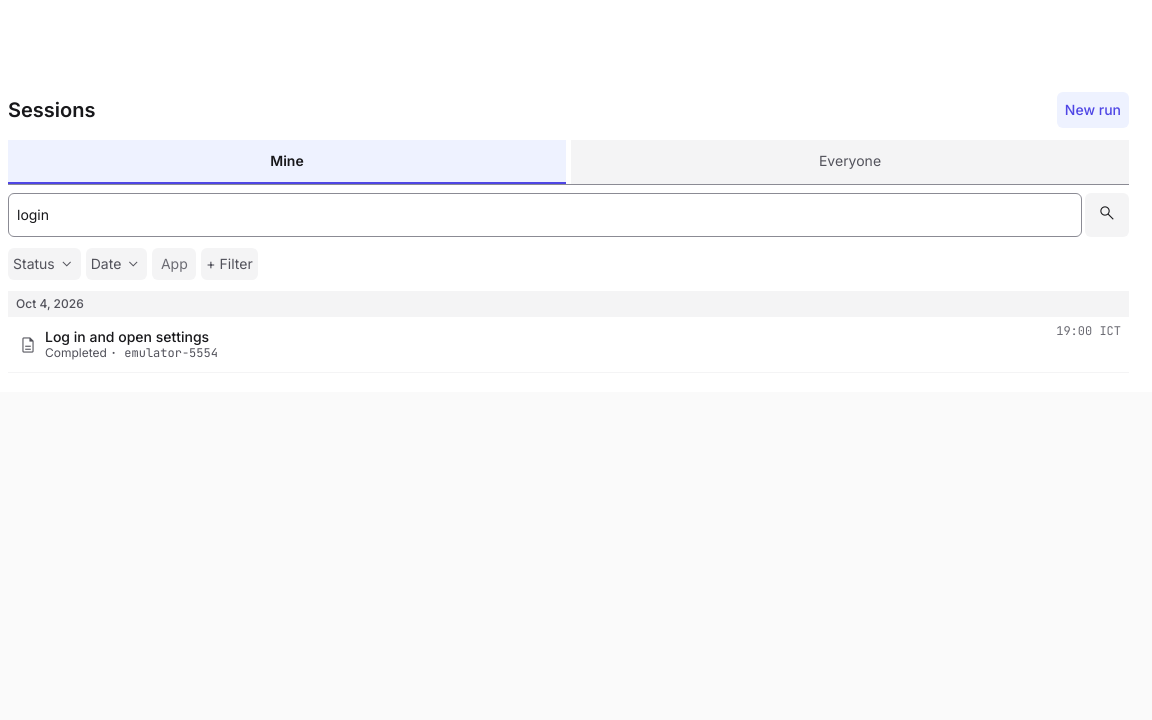
RunLibraryComponent › filter popovers › adds optional filters, applies text values, and restores them from the URL
The width and height of the screenshot is (1152, 720).
Click the button "+ Filter".
click(229, 264)  # box [201,242,258,286]
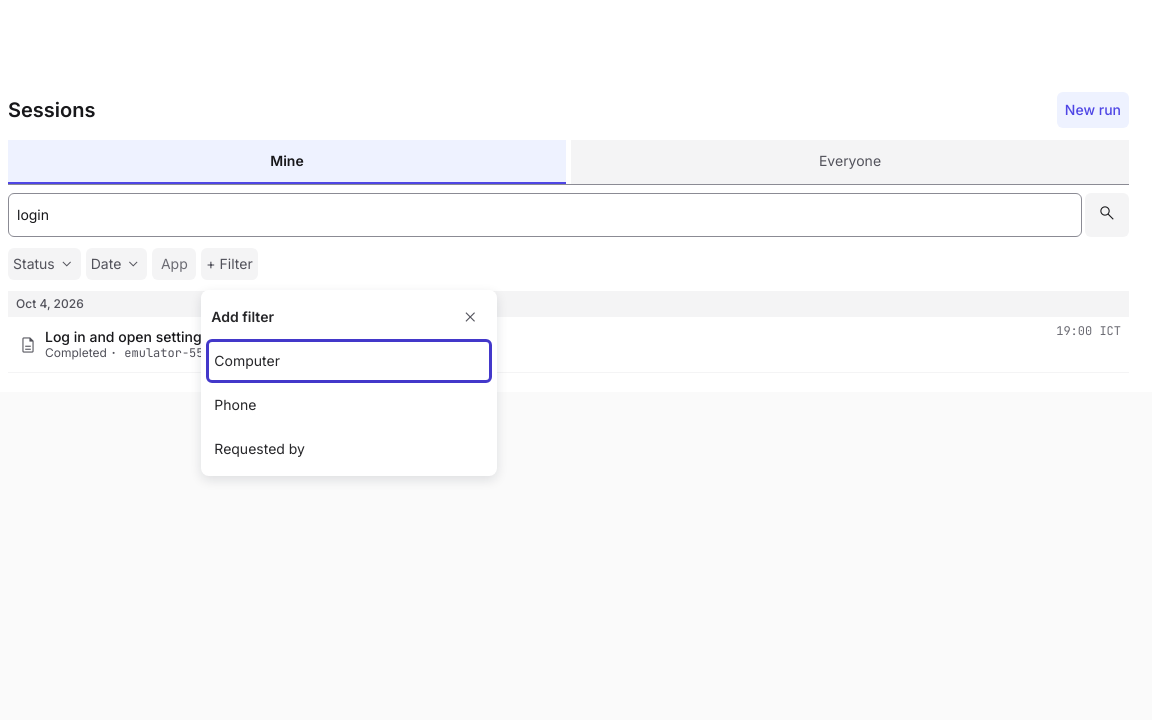
Click the button "Phone".
click(235, 404)  # box [206,383,492,427]
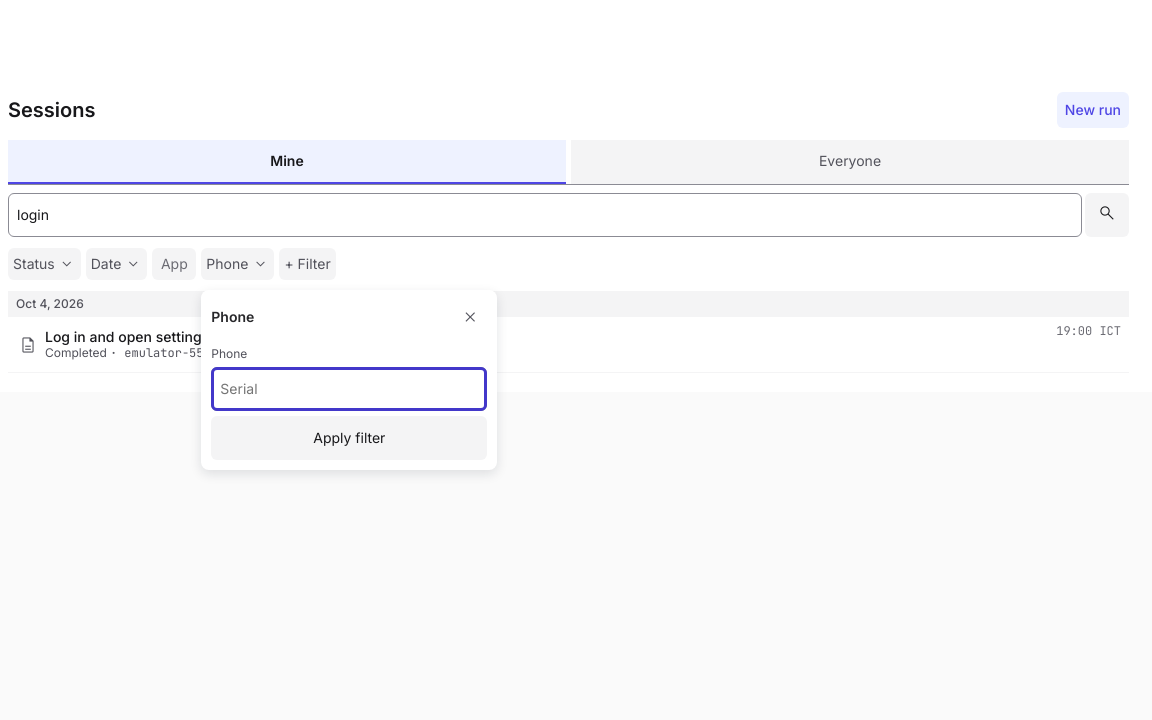
Type "  emulator-5554  " into the field named "Phone".
click(349, 389); type("  emulator-5554  ")  # box [211,367,487,411]
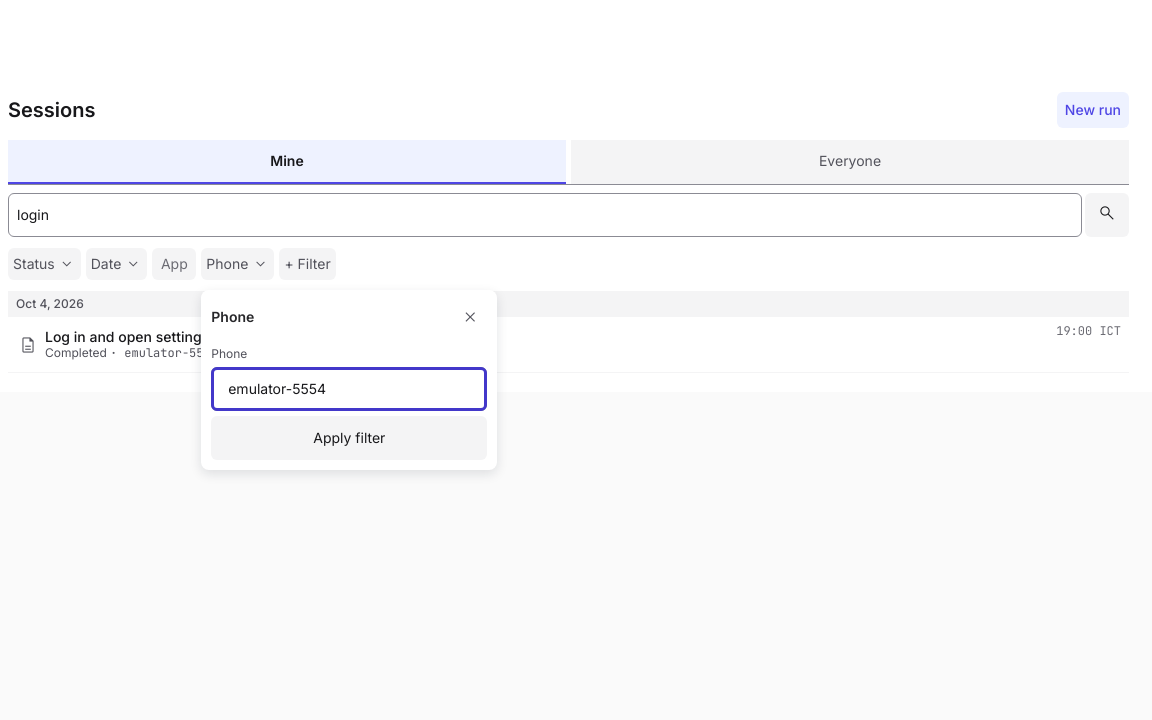
Submit the form "Phone Apply filter", box [206,339,492,465]
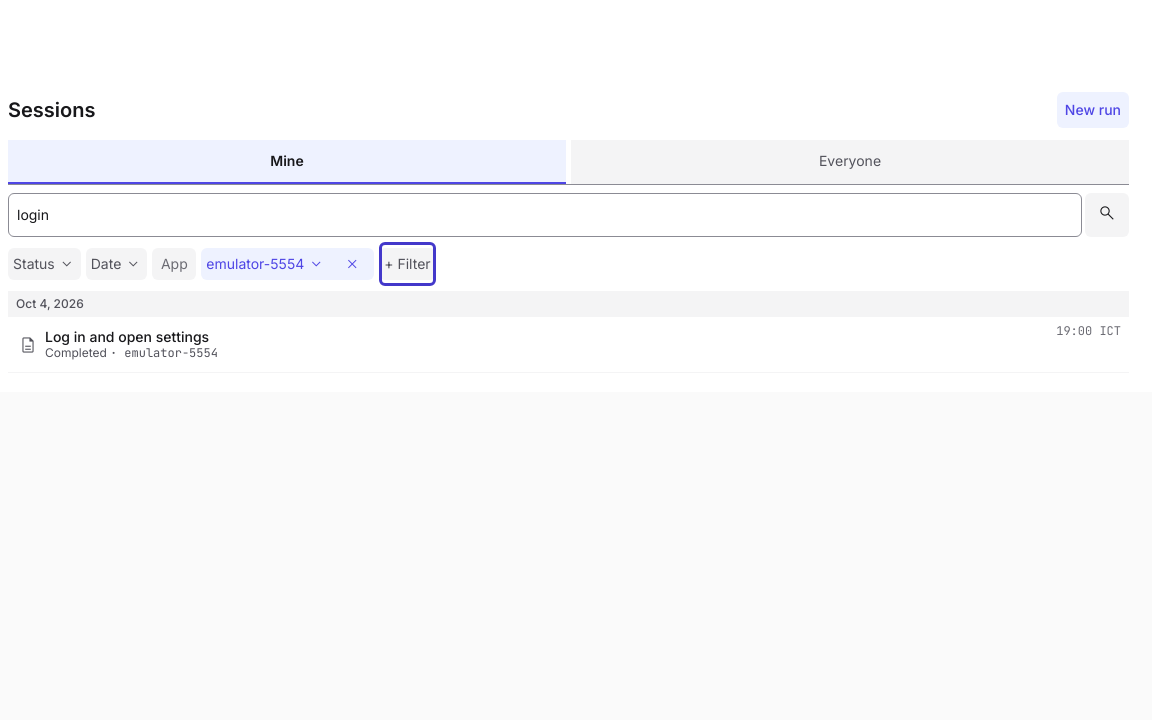
Expected: the button "emulator-5554" is shown, [201,242,330,286]
Expected: the dialog is gone
